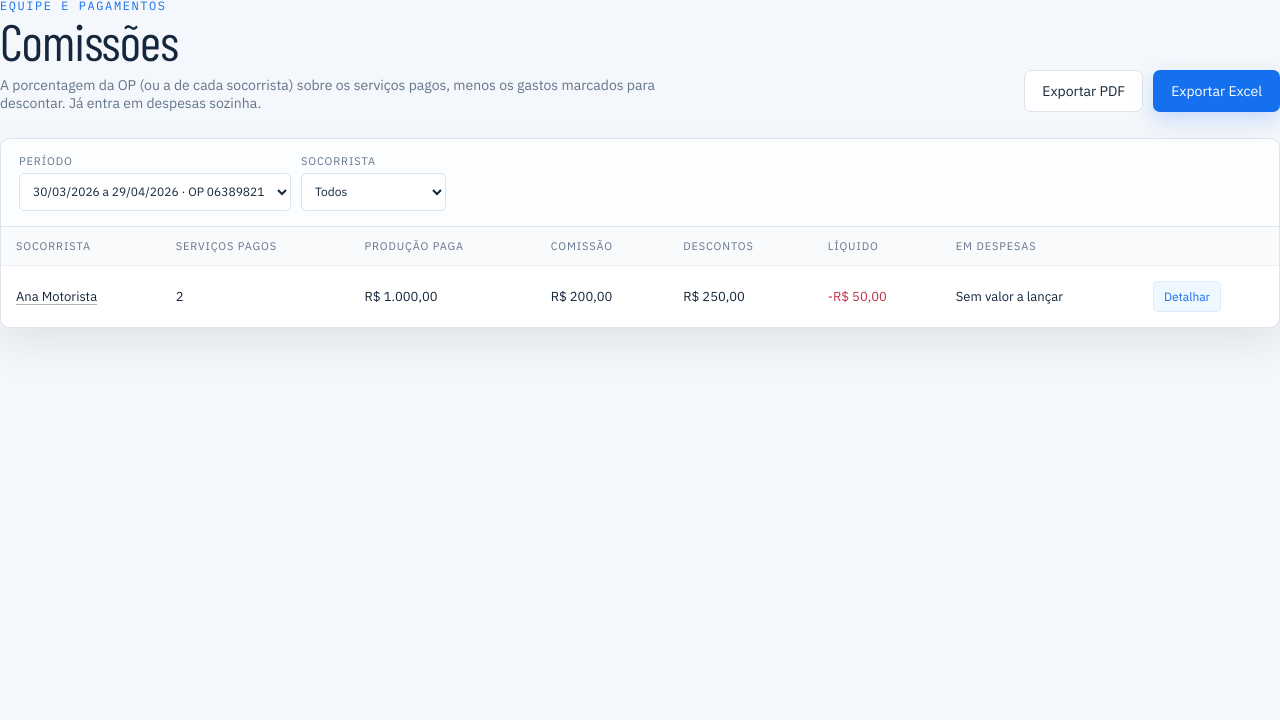
administrador filtra resumo e abre o detalhamento que forma a comissão
Expected: the text "-R$ 50,00" is shown, [828, 288, 887, 305]
Click the button "Detalhar" at (1187, 296), box [1153, 281, 1221, 312]
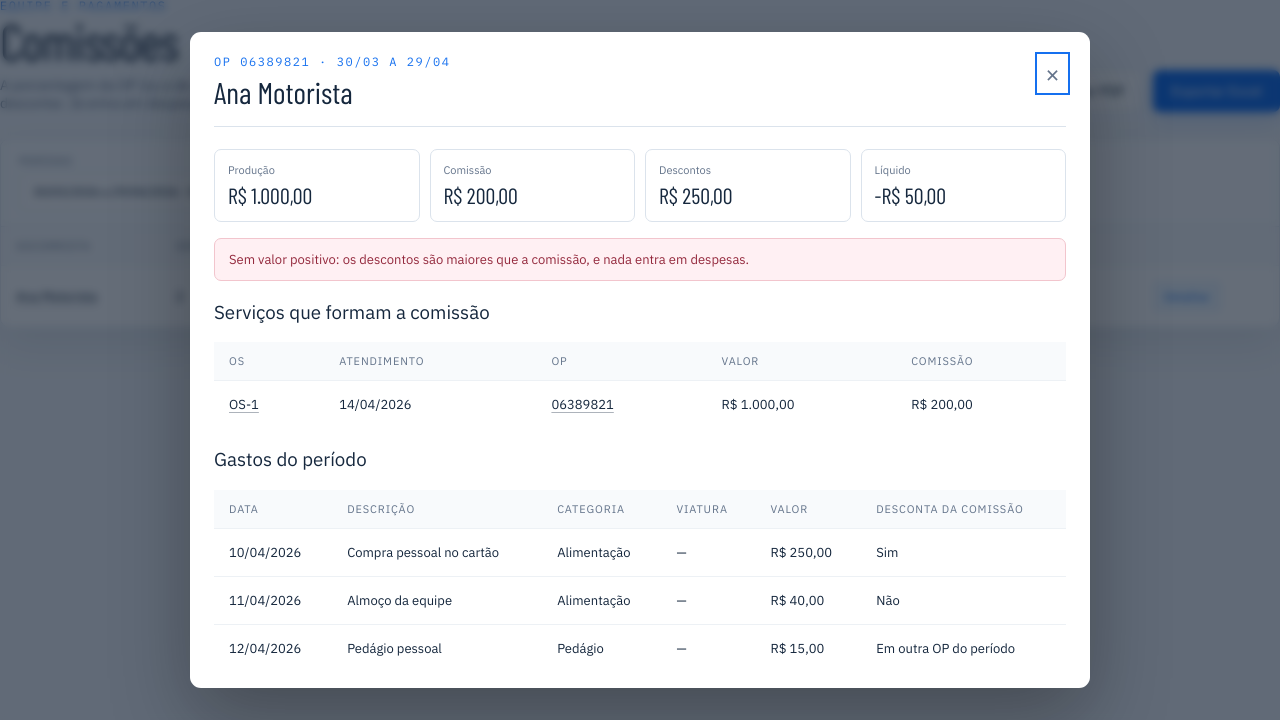
Now the dialog shows "OS-1", box [229, 396, 259, 413]
